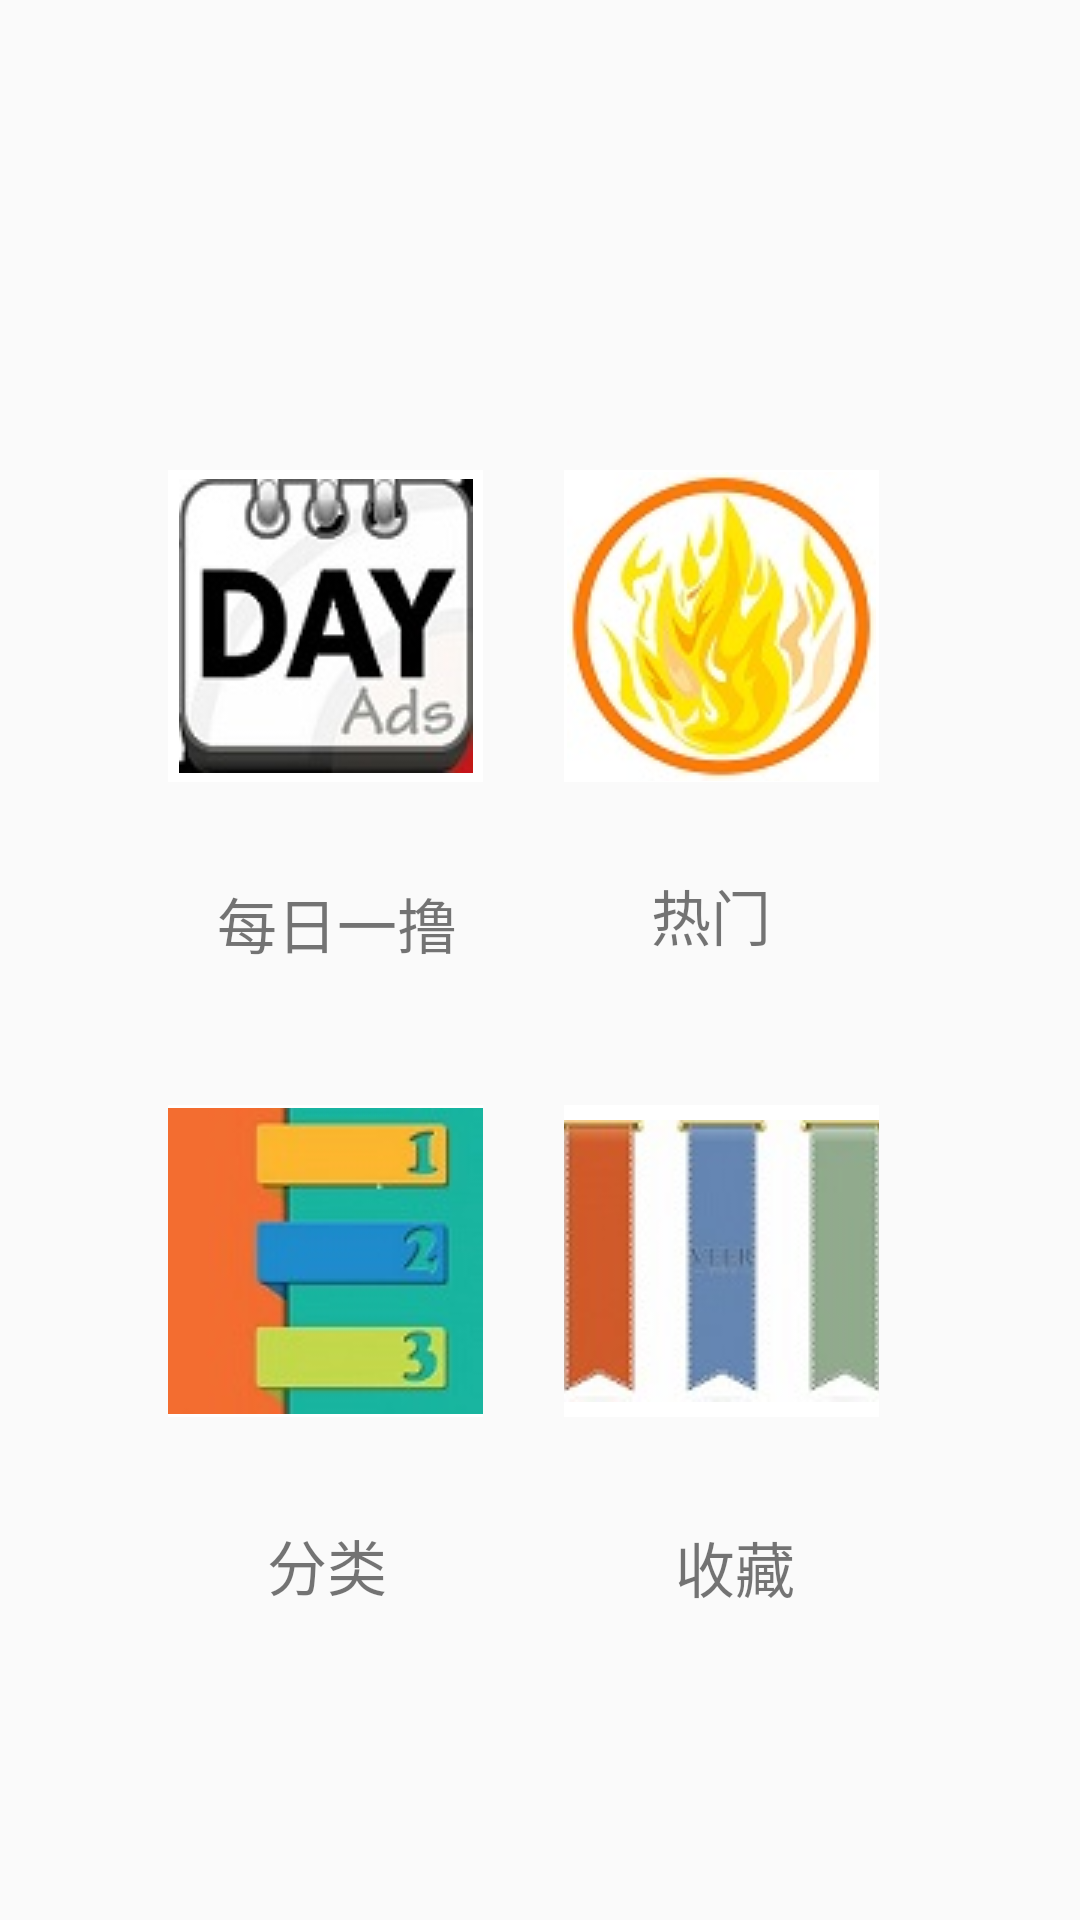

Named icons in this screenshot (1080w x 1920h) and their centers, point (x, y):
fenlei: point (325, 1261)
shouchang: point (721, 1255)
